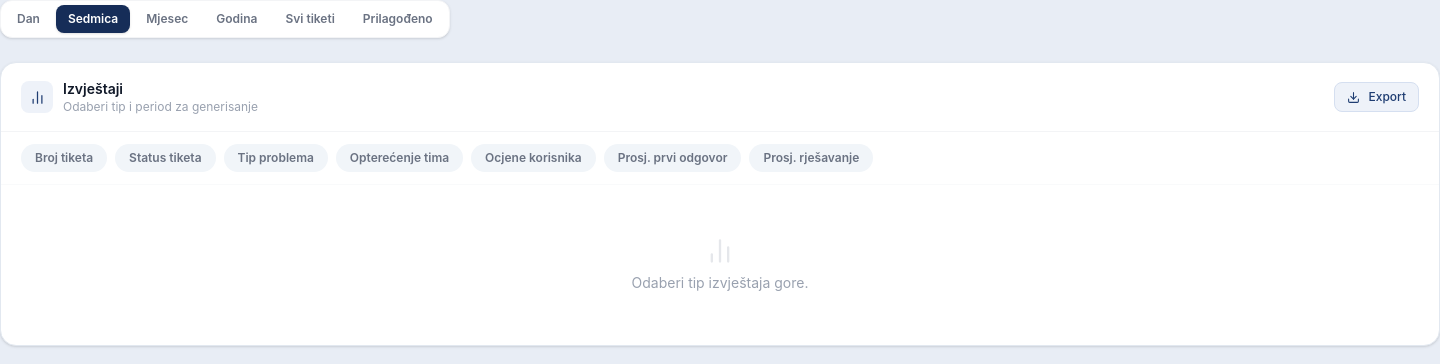
Scenario: AdminDashboardSection (reports mode) — generisanje + export (PB-45 / US-83, US-85) › warning za veliki period se prikazuje na TICKET_STATUS
What coordinates should you click on to do the following:
click the button "Status tiketa"
I would click on:
 (165, 158)
Its box is [115,144,216,172].
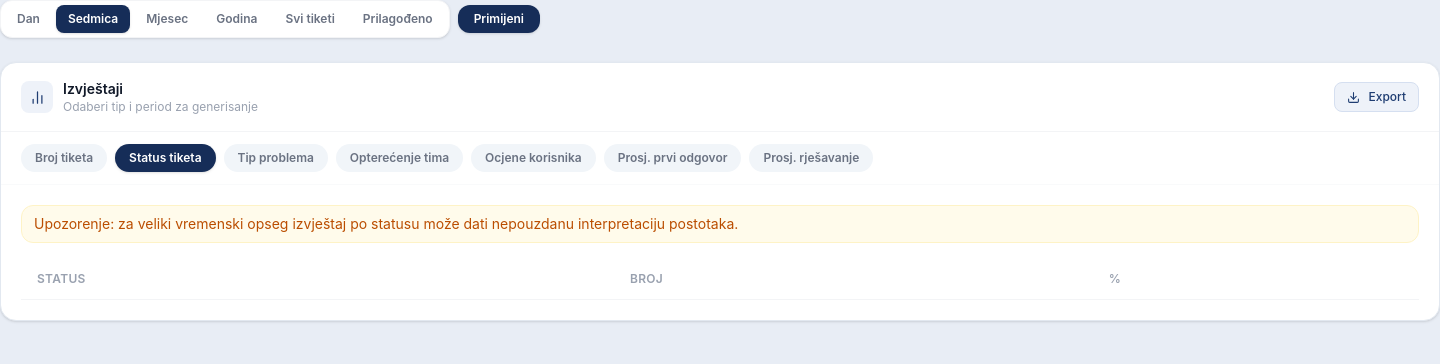
expect the text "Upozorenje" is shown: met, box [34,215,738,232]
